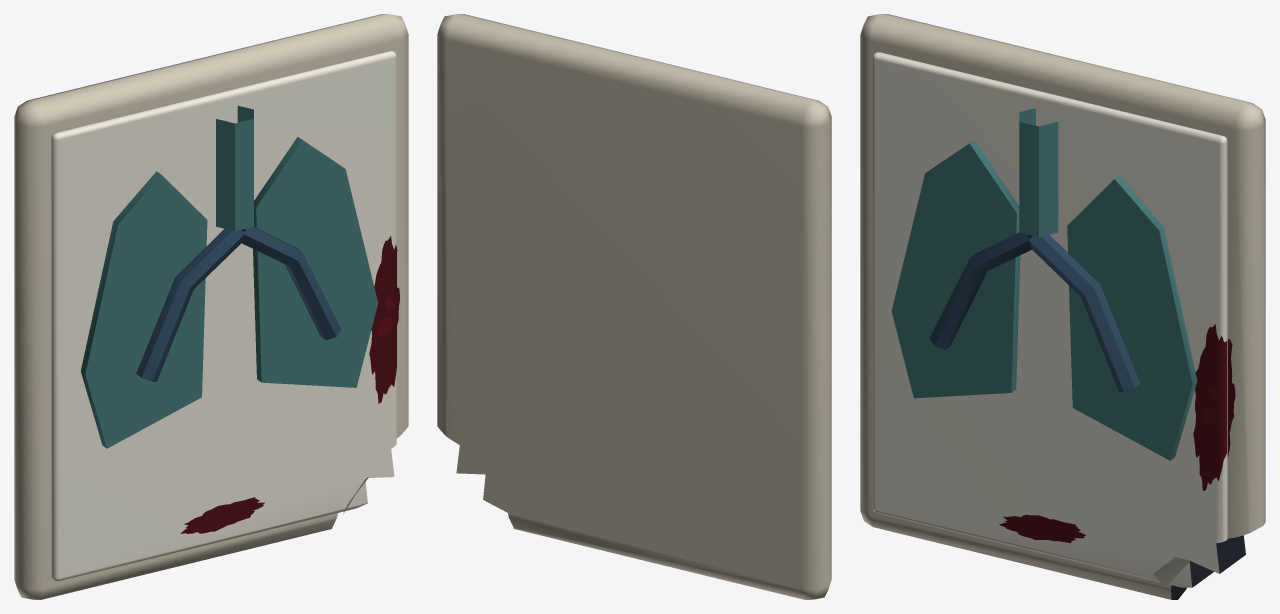
File: clinical_art_lungs.glb
3 renders of one model, left to right at view 1: azimuth 30°, elevation 25°; view 2: azimuth 150°, elevation 25°; view 3: azimuth 330°, elevation 25°, orthographic. The views are drawn at different scales.
Visible parts, largest first — view 1: clinical_art_lungs_Outbreak_Static; view 2: clinical_art_lungs_Outbreak_Static; view 3: clinical_art_lungs_Outbreak_Static.
Part boxes in pixels (x1,y1,x2,y2): clinical_art_lungs_Outbreak_Static: (14,14,408,599); clinical_art_lungs_Outbreak_Static: (437,14,831,599); clinical_art_lungs_Outbreak_Static: (860,14,1265,599).
Bounding box in the file's own units: 0.72 × 0.88 × 0.1383.
